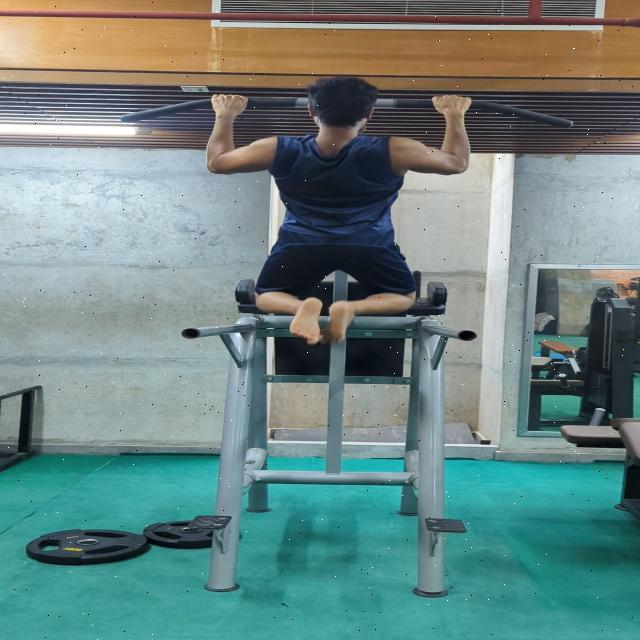Normal_PullUps: (196, 74, 491, 350)
